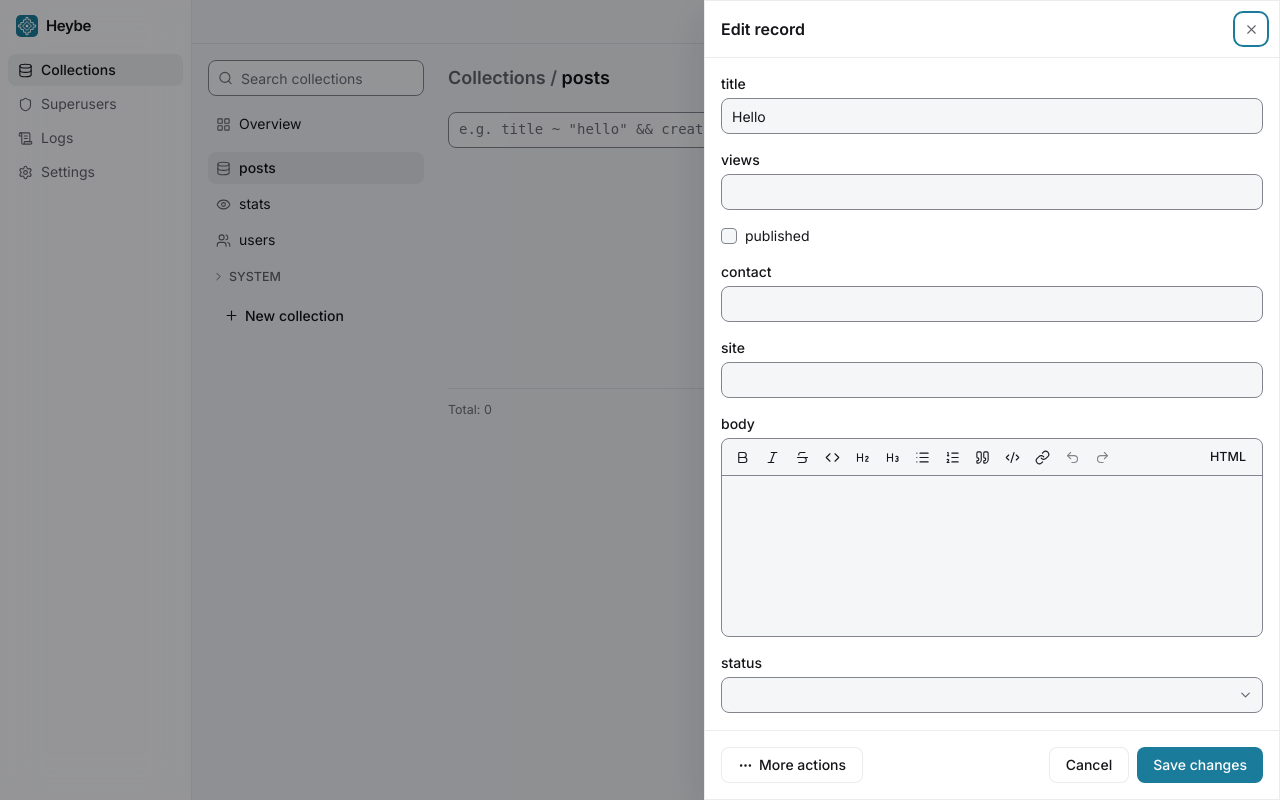
a 401 from a direct record save signs out and redirects to /login
This screenshot has width=1280, height=800.
expect the dialog "Edit record" is shown: met, box [704,0,1279,799]
Step 1. Type "!" into the field labelled "title" → [992, 116], box [721,98,1263,134]
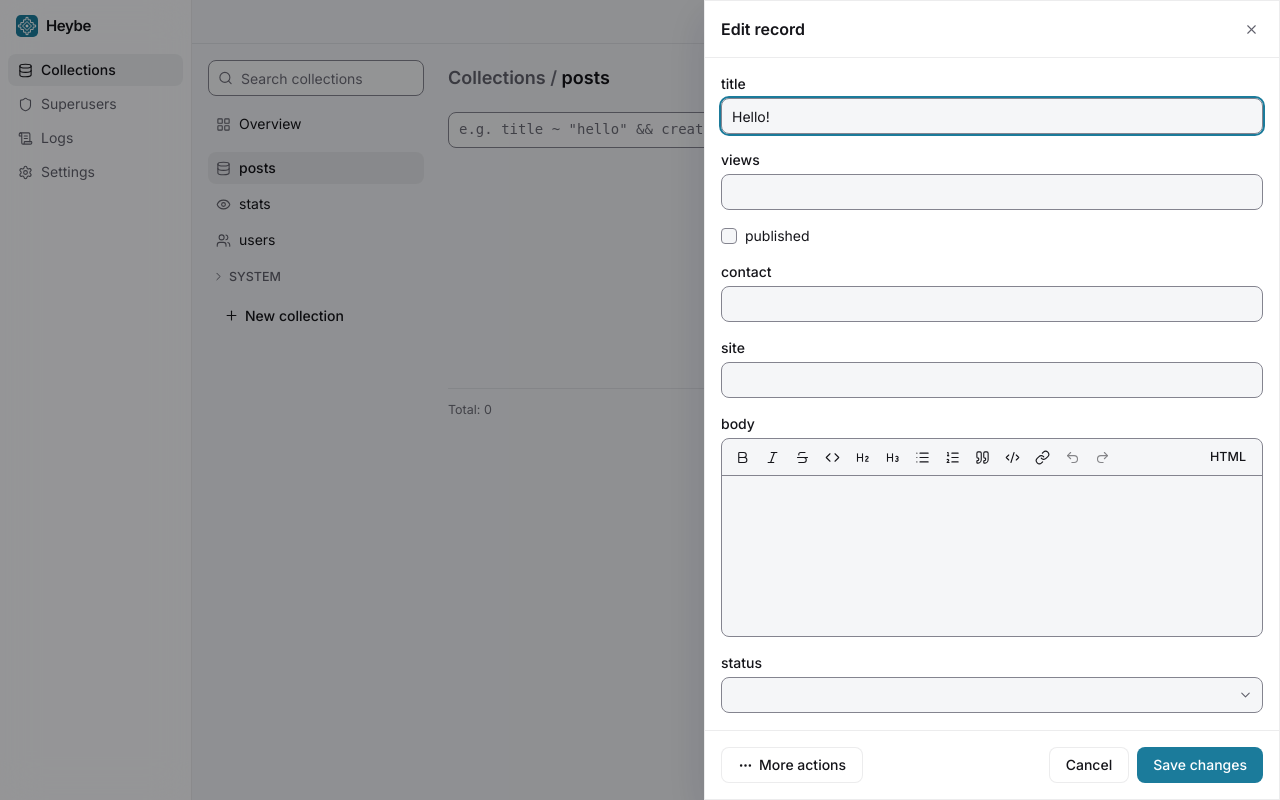
Step 2. Click the button "Save changes" → [1200, 765], box [1137,747,1263,783]
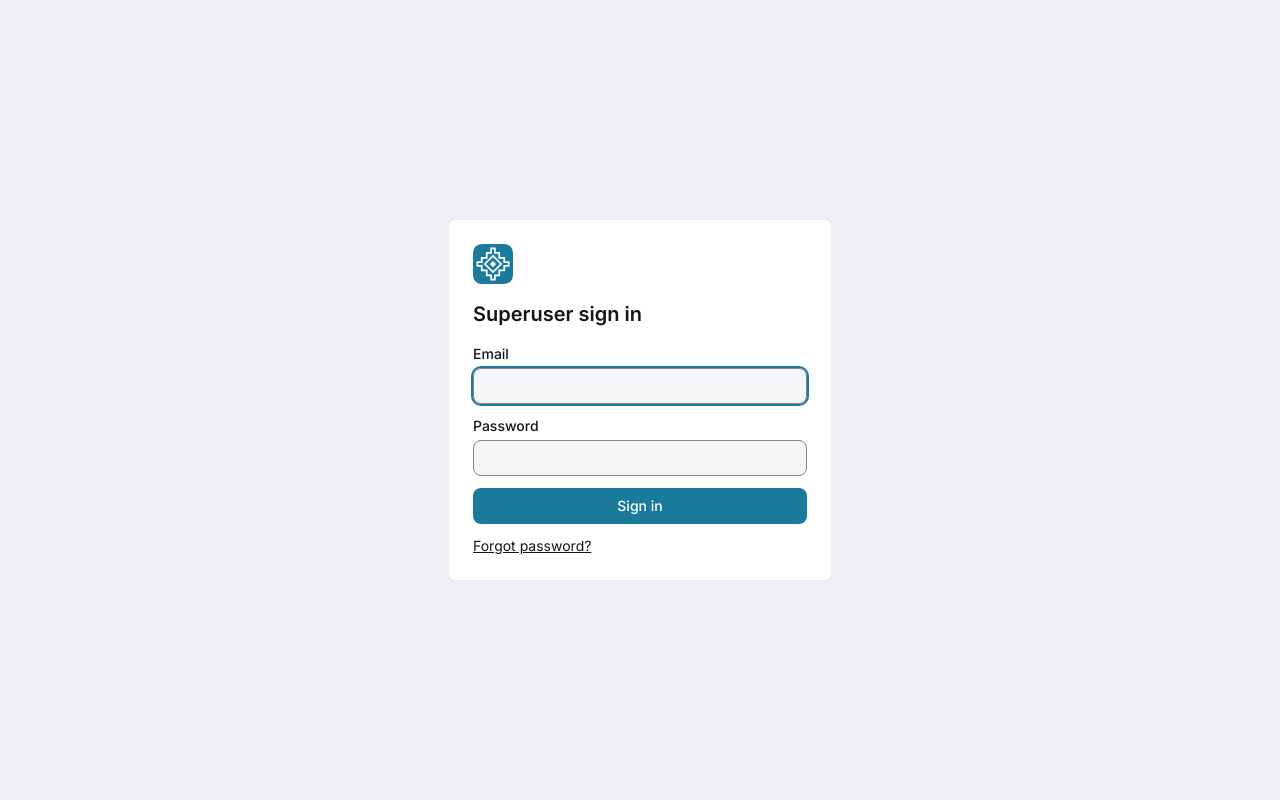
expect the field labelled "Email" is shown: met, box [473,368,807,404]
